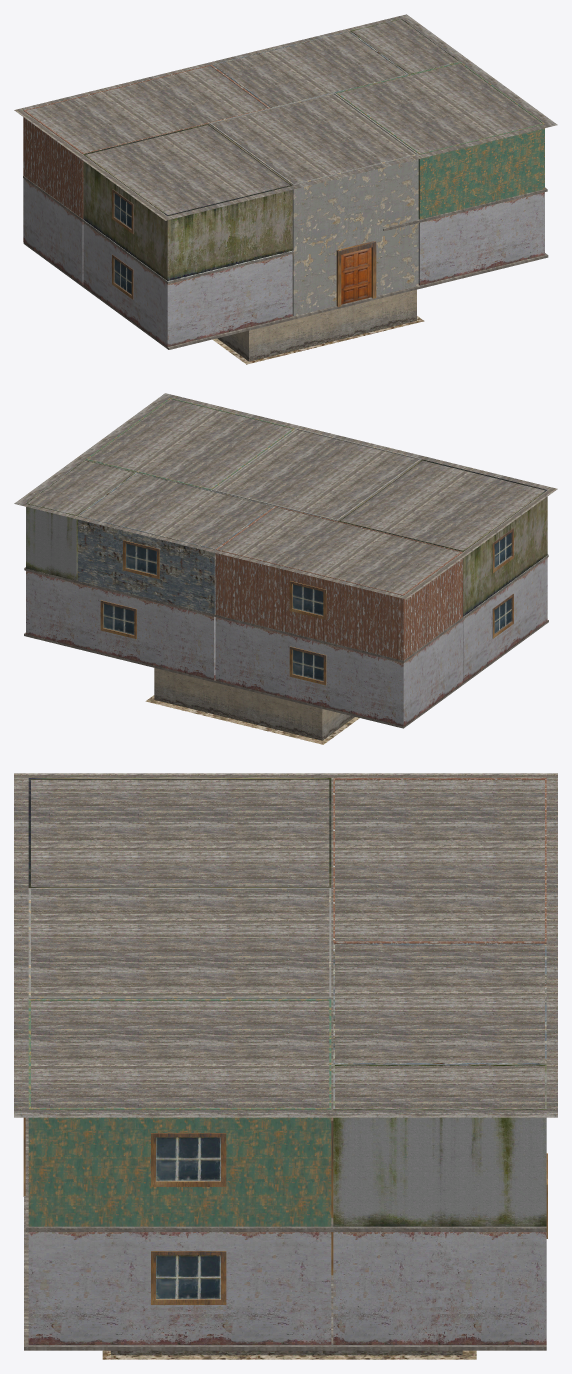
3 renders of one model, top to bottom at view 1: azimuth 30°, elevation 25°; view 2: azimuth 150°, elevation 25°; view 3: azimuth 270°, elevation 25°, orthographic. The views are drawn at different scales.
Visible parts, largest first — view 1: HouseWalls_HouseBakedTexture1_0_27, HouseFloor_HouseFloorBaked2_0_21, ExitDoor_ExitDoor_0_5; view 2: HouseWalls_HouseBakedTexture1_0_27, HouseFloor_HouseFloorBaked2_0_21; view 3: HouseWalls_HouseBakedTexture1_0_27, HouseFloor_HouseFloorBaked2_0_21.
Part boxes in pixels (box(x1,y1,x2,y2)): HouseWalls_HouseBakedTexture1_0_27: box(14, 14, 557, 361); HouseFloor_HouseFloorBaked2_0_21: box(23, 176, 548, 364); ExitDoor_ExitDoor_0_5: box(341, 247, 371, 304); HouseWalls_HouseBakedTexture1_0_27: box(14, 393, 557, 740); HouseFloor_HouseFloorBaked2_0_21: box(24, 554, 548, 744); HouseWalls_HouseBakedTexture1_0_27: box(14, 773, 557, 1355); HouseFloor_HouseFloorBaked2_0_21: box(24, 1117, 546, 1359).
Bounding box in the file's own units: 0.4228 × 0.1944 × 0.2821.
15 materials, 15 textured.
